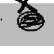not correct: (11, 0, 46, 34)
